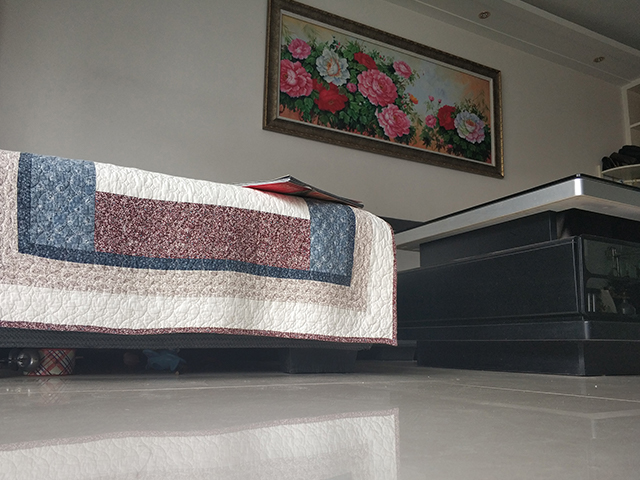sofa: (1, 149, 397, 376)
stool: (393, 172, 640, 378)
